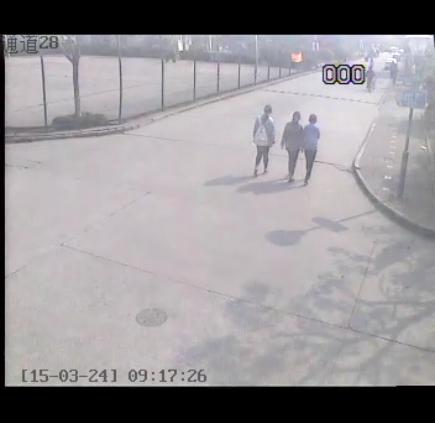person: (297, 109, 335, 186), (244, 94, 276, 182), (286, 99, 301, 189)
